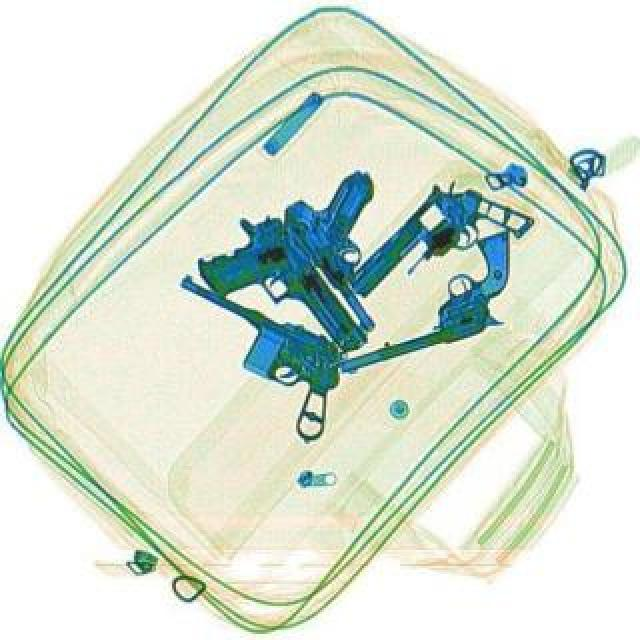gun: (134, 268, 364, 444), (182, 200, 372, 392), (338, 158, 534, 344), (308, 228, 540, 376), (276, 158, 448, 330)
